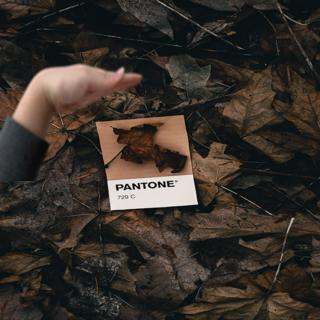Wait: (10, 53, 145, 136)
